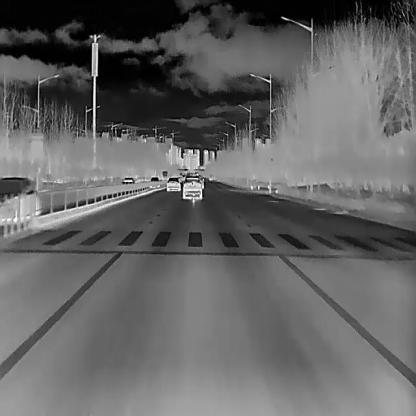bus: (160, 169, 168, 180)
car: (0, 175, 40, 225), (181, 175, 202, 199), (166, 176, 180, 191), (148, 176, 160, 188), (120, 176, 134, 184)
